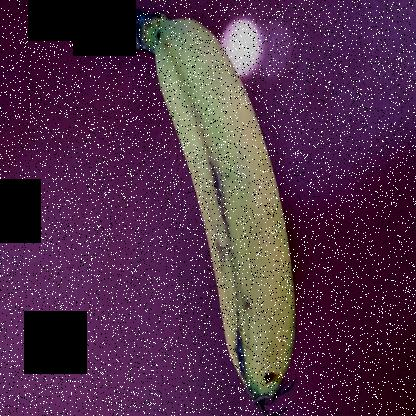ripe: (141, 15, 311, 405)
